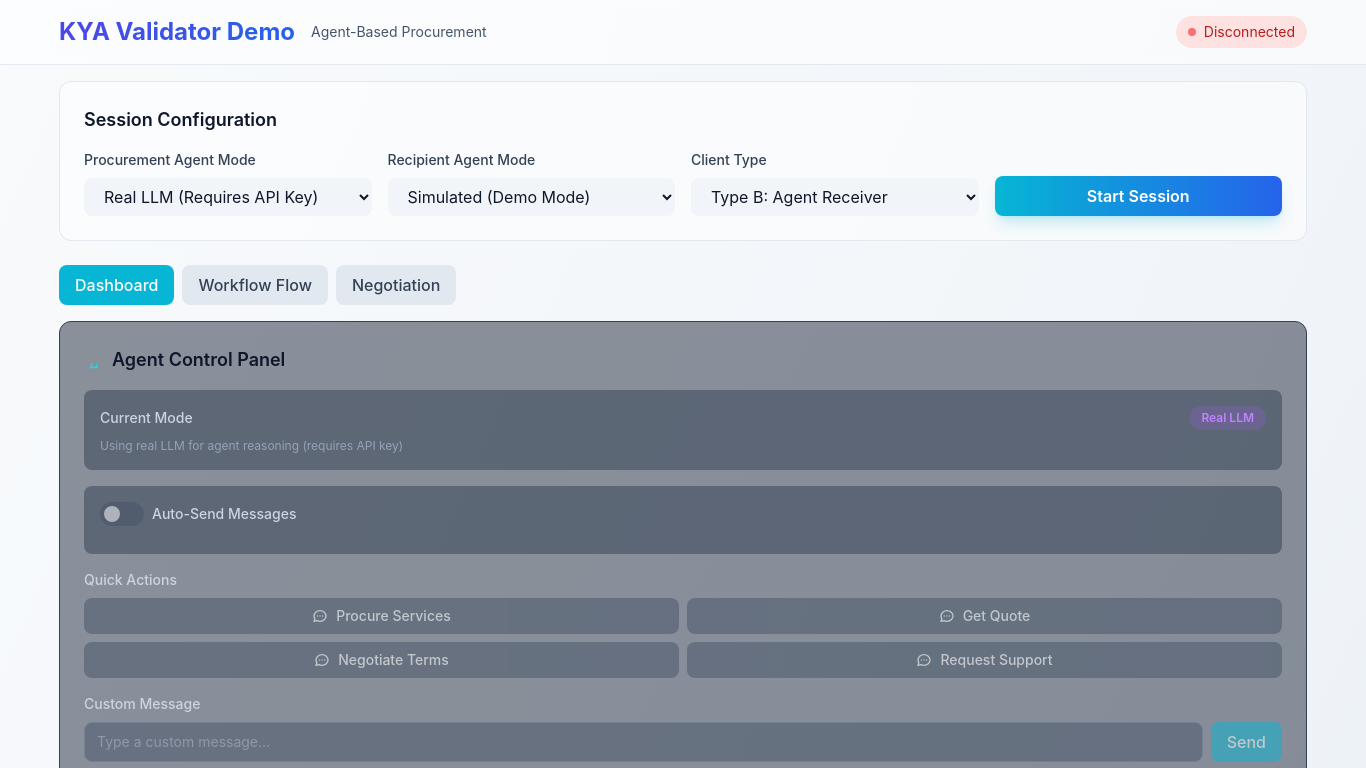
Test: DemoDashboard › Start Session › should use legacy agent_mode mapping when only legacy mode is set
This screenshot has width=1366, height=768.
Click the button "Start Session" at (1138, 196), box [994,176,1282,216]
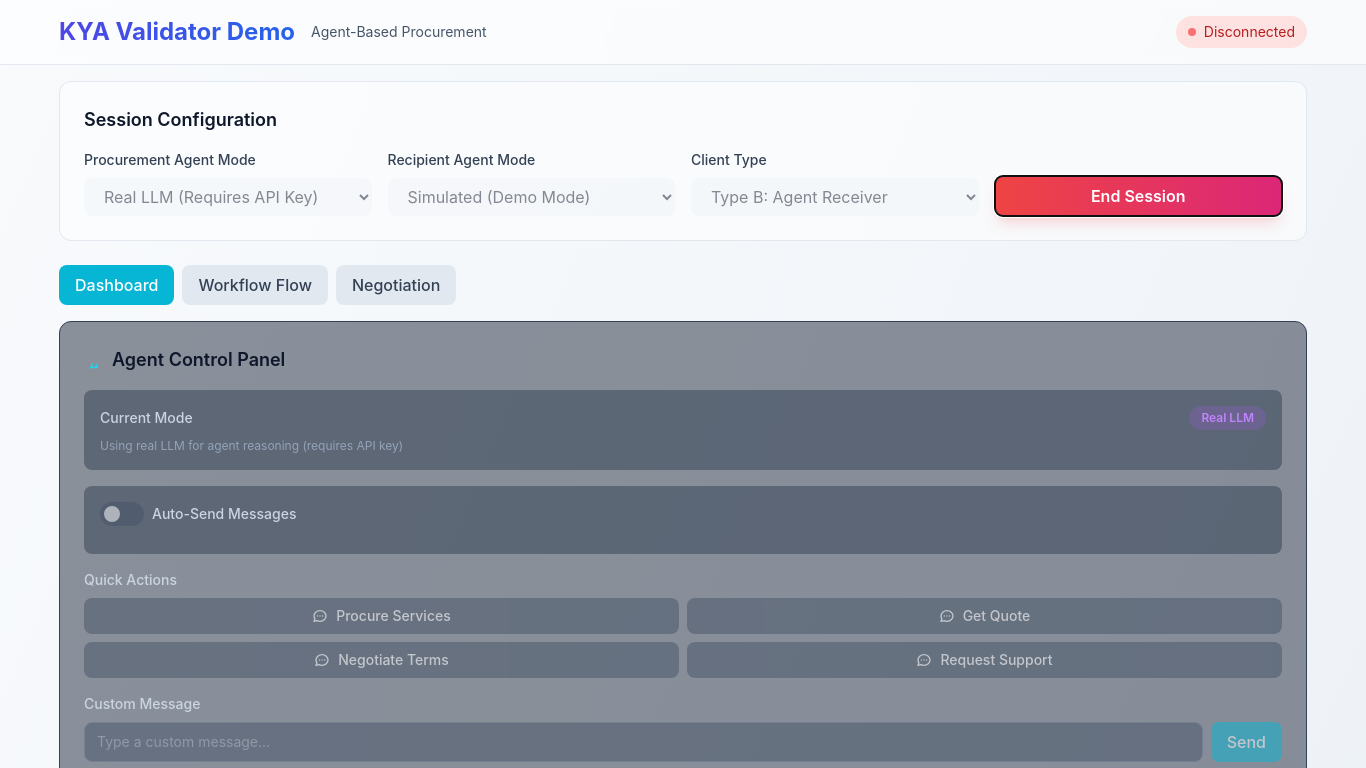
Now the button "End Session" is shown, box [994,176,1282,216]
